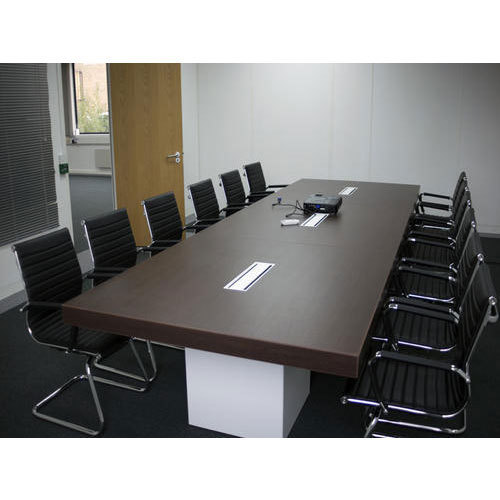conference_table: (61, 178, 420, 439)
